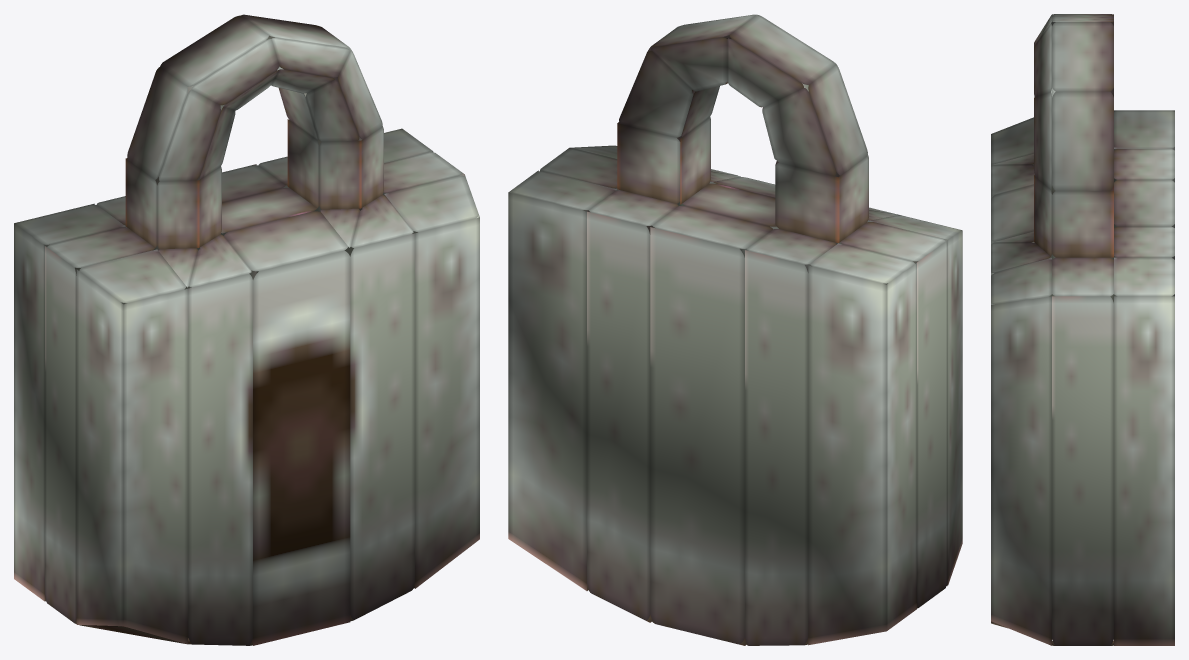
3 views of the same model, side by side, from view 1: azimuth 30°, elevation 25°; view 2: azimuth 150°, elevation 25°; view 3: azimuth 270°, elevation 25° (orthographic). The views are drawn at different scales.
Visible parts, largest first — view 1: T1L6M001_17; view 2: T1L6M001_17; view 3: T1L6M001_17.
Part boxes in pixels (x1,y1,x2,y2): T1L6M001_17: [14, 14, 479, 645]; T1L6M001_17: [508, 14, 962, 645]; T1L6M001_17: [991, 14, 1174, 645].
Size of the model in its own units: 0.4795 by 0.6973 by 0.2002.
